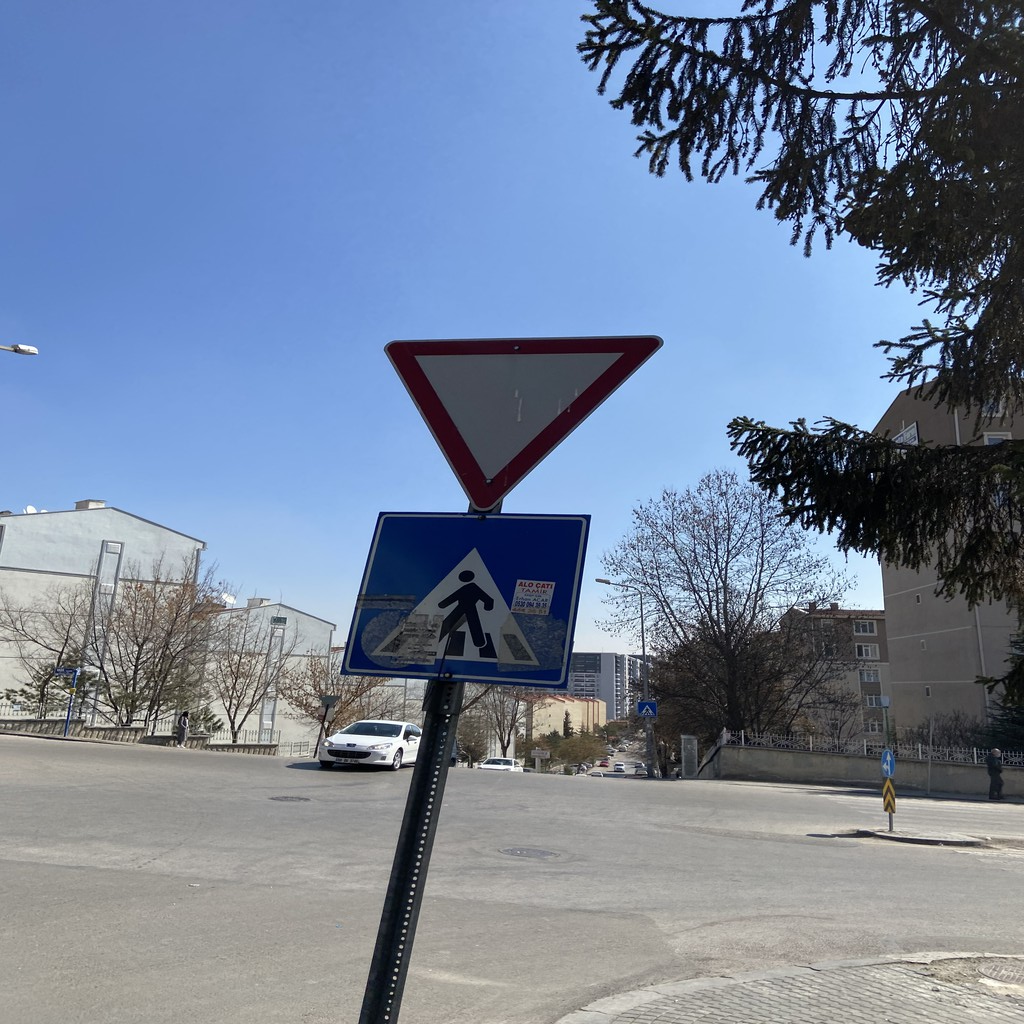Yaya Gecidi: (374, 515, 583, 678)
Yol Ver: (386, 311, 667, 504)
